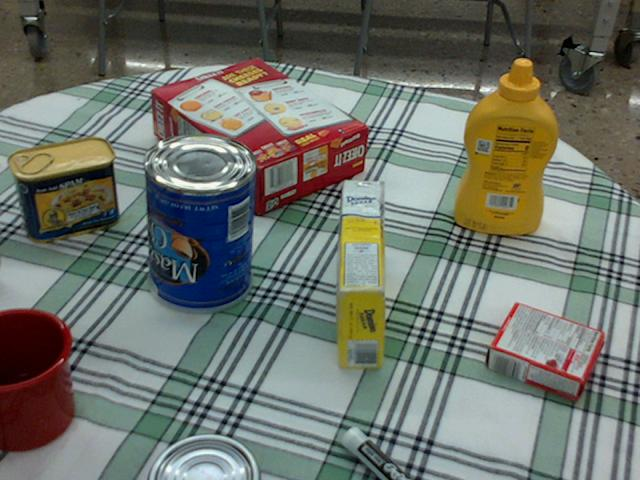cracker_box: (150, 59, 366, 210)
gelatin_box: (485, 302, 602, 401)
large_marker: (341, 427, 411, 479)
master_chef_can: (140, 132, 253, 313)
mug: (0, 305, 71, 448)
mustard_bottle: (452, 58, 556, 233)
potted_meat_can: (9, 137, 118, 242)
sugar_box: (335, 180, 384, 367)
tuna_fish_can: (144, 435, 257, 479)
